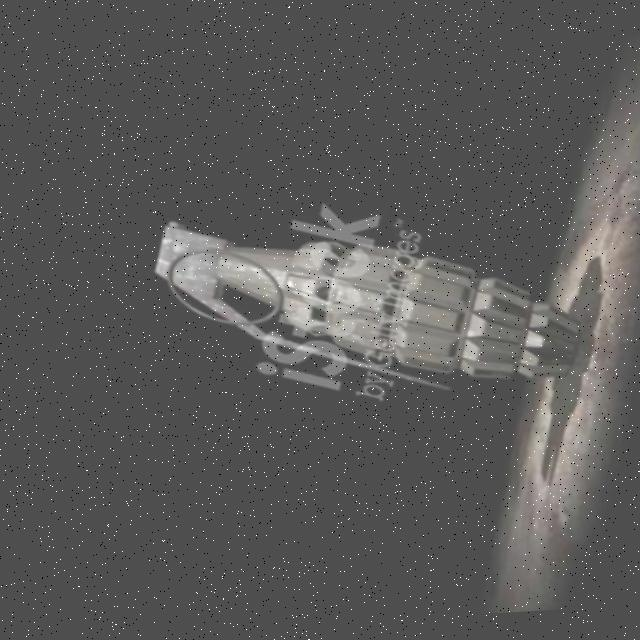grenade: (128, 176, 594, 439)
